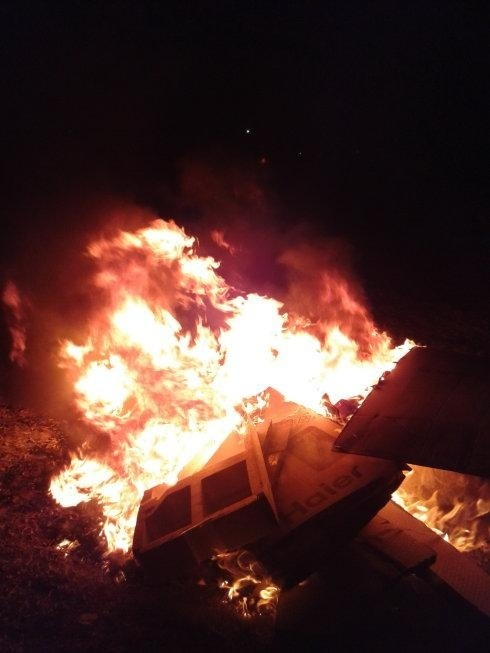fire: (49, 208, 421, 465), (387, 462, 482, 551), (215, 555, 279, 616)
